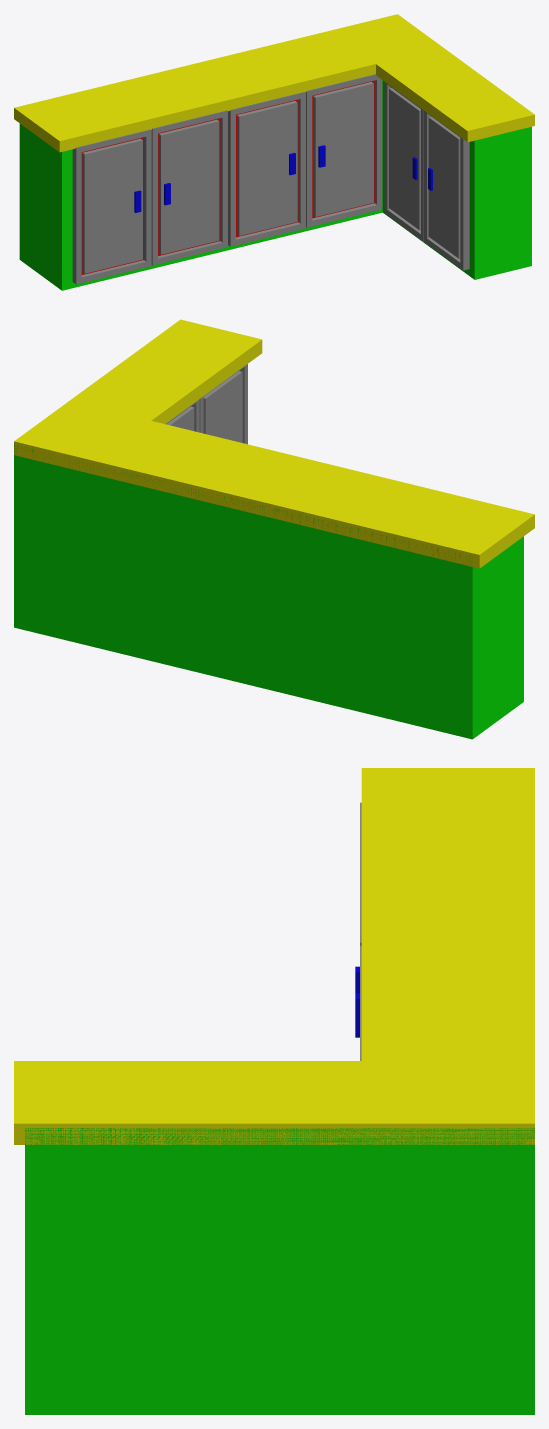
The model's file is Big_Armoire4.fbx.
The picture shows the model from 3 angles, top to bottom: view 1: azimuth 30°, elevation 25°; view 2: azimuth 150°, elevation 25°; view 3: azimuth 270°, elevation 25°; orthographic projection. The views are drawn at different scales.
Visible parts, largest first — view 1: pCube196; view 2: pCube196; view 3: pCube196.
Part boxes in pixels (x1,y1,x2,y2): pCube196: [14, 14, 534, 290]; pCube196: [14, 319, 534, 739]; pCube196: [14, 768, 534, 1414].
Bounding box in the file's own units: 369 × 141 × 228.
